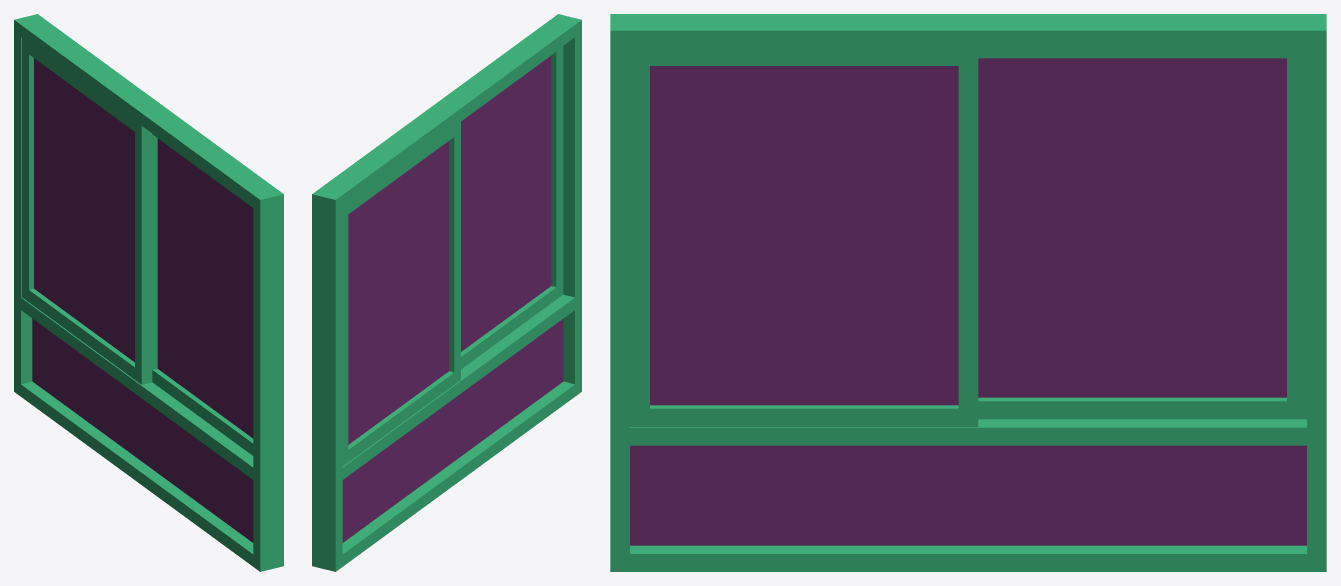
File: component-focus-window.gltf
3 renders of one model, left to right at view 1: azimuth 30°, elevation 25°; view 2: azimuth 150°, elevation 25°; view 3: azimuth 270°, elevation 25°, orthographic. The views are drawn at different scales.
Parts seen in each view (by area): view 1: 窗戶, 窗框; view 2: 窗戶, 窗框; view 3: 窗戶, 窗框.
Part boxes in pixels (left/top/right/bottom): 窗戶: left=32, top=58, right=253, bottom=542; 窗框: left=14, top=14, right=283, bottom=571; 窗戶: left=342, top=56, right=563, bottom=542; 窗框: left=312, top=14, right=581, bottom=571; 窗戶: left=630, top=58, right=1306, bottom=545; 窗框: left=610, top=14, right=1326, bottom=571.
Bounding box in the file's own units: 0.1 × 1.5 × 1.8.
